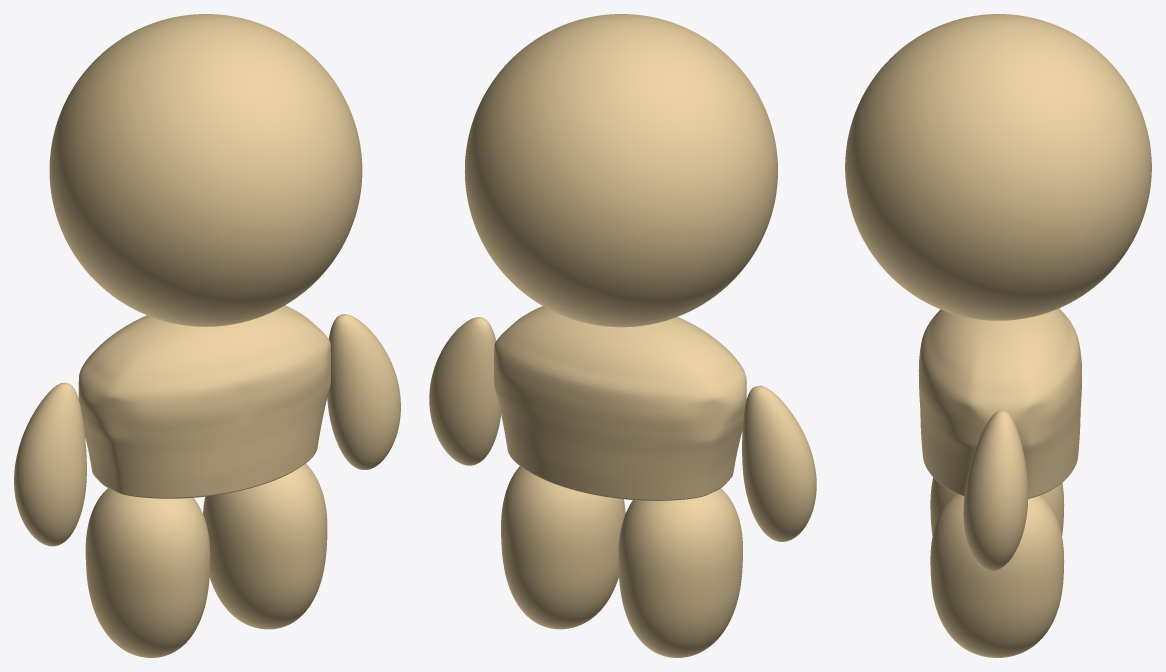
The model's file is Masculine-Masculine-taper-base-4ee10f1a.glb.
The picture shows the model from 3 angles, left to right: view 1: azimuth 30°, elevation 25°; view 2: azimuth 150°, elevation 25°; view 3: azimuth 270°, elevation 25°; orthographic projection. The views are drawn at different scales.
Visible parts, largest first — view 1: Skin / soft oval head, Skin / rounded torso, Skin / leg blob -1, Skin / leg blob 1, Skin / swept arm -1, Skin / swept arm 1; view 2: Skin / soft oval head, Skin / rounded torso, Skin / leg blob -1, Skin / leg blob 1, Skin / swept arm -1, Skin / swept arm 1; view 3: Skin / soft oval head, Skin / rounded torso, Skin / leg blob 1, Skin / swept arm 1, Skin / leg blob -1.
Boxes of the visible parts, x1,y1,x2,y2 form: Skin / soft oval head: [49, 14, 362, 326]; Skin / rounded torso: [78, 305, 330, 498]; Skin / leg blob -1: [85, 488, 210, 657]; Skin / leg blob 1: [203, 463, 327, 629]; Skin / swept arm -1: [14, 382, 86, 546]; Skin / swept arm 1: [327, 314, 400, 469]; Skin / soft oval head: [464, 14, 777, 327]; Skin / rounded torso: [494, 306, 746, 500]; Skin / leg blob -1: [618, 488, 742, 657]; Skin / leg blob 1: [501, 466, 625, 629]; Skin / swept arm -1: [742, 385, 816, 541]; Skin / swept arm 1: [429, 317, 500, 465]; Skin / soft oval head: [845, 14, 1151, 320]; Skin / rounded torso: [918, 308, 1081, 498]; Skin / leg blob 1: [930, 493, 1064, 657]; Skin / swept arm 1: [963, 409, 1028, 571]; Skin / leg blob -1: [930, 477, 1064, 535].
Bounding box in the file's own units: 1.07 × 1.65 × 0.768.
